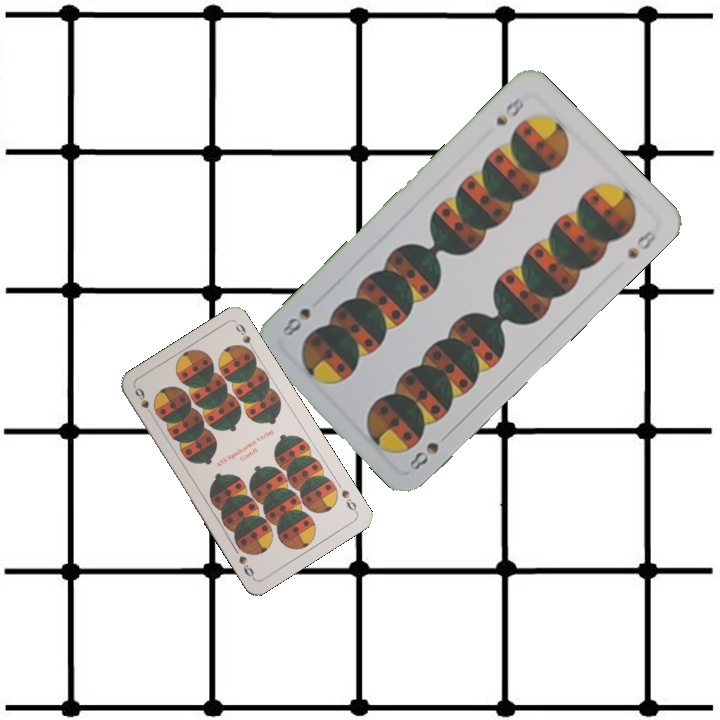S8: (405, 427, 453, 473), (491, 93, 526, 129)
S9: (131, 384, 157, 421), (337, 485, 360, 515)
